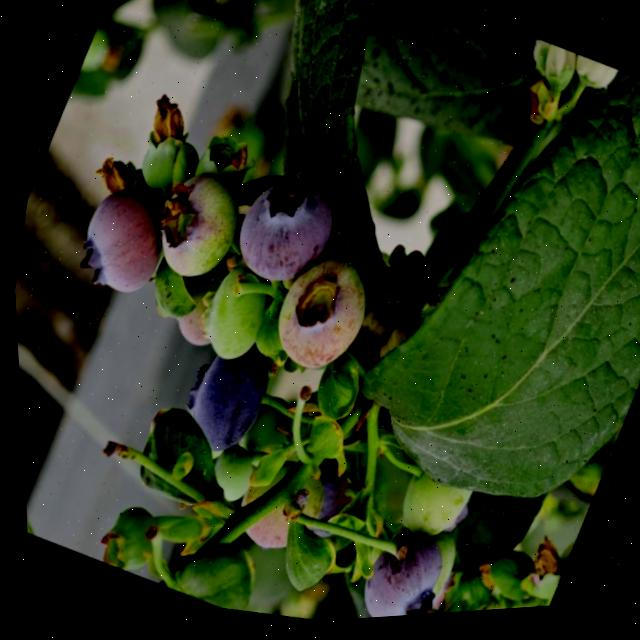RipeBlueBerry: (214, 152, 357, 308), (160, 328, 287, 473), (341, 512, 463, 623)
Semi-RipeBlueBerry: (251, 237, 391, 393), (52, 170, 186, 313)
UnripeBlueBerry: (132, 153, 262, 301), (182, 256, 286, 379)
